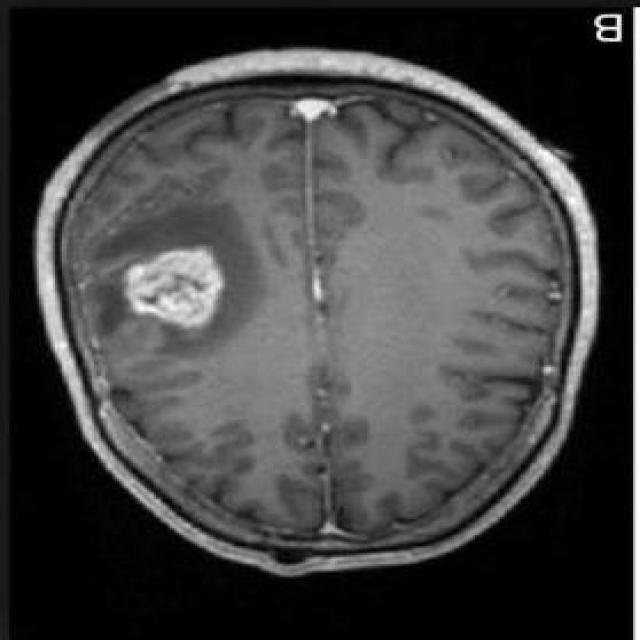Tumor-Cell: (107, 222, 256, 353)
